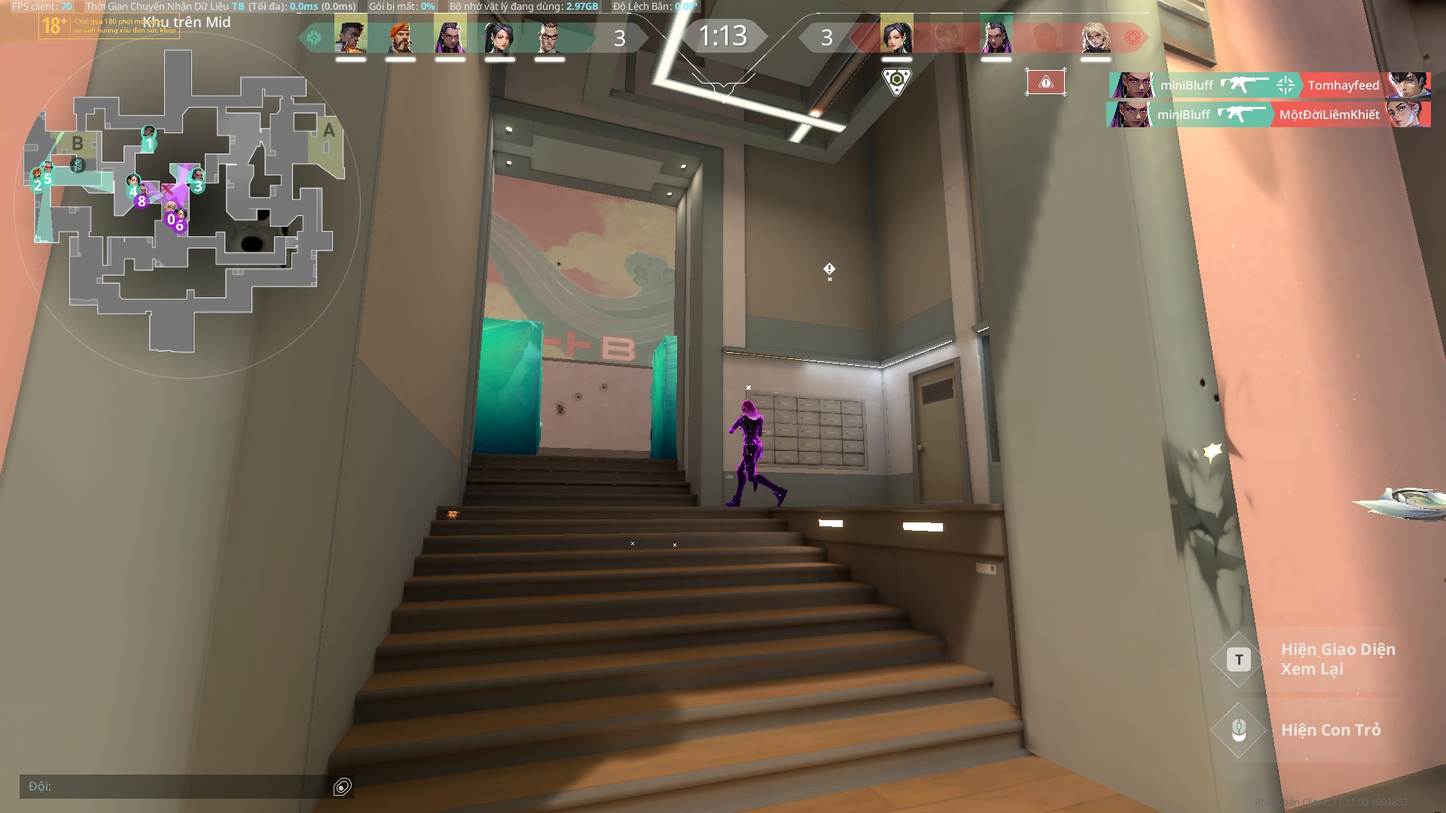body: (737, 413, 764, 448)
head: (741, 400, 754, 413)
